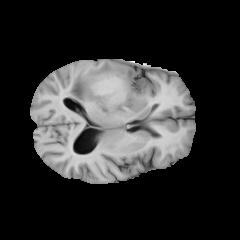glioma: (68, 63, 153, 122)
